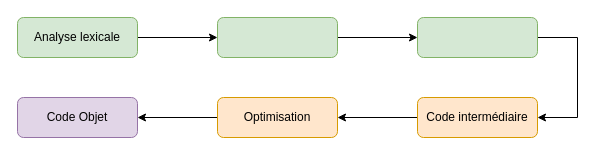
Image size: 603x155. Some labels were removed from this diagram. The shapes that lost their labels are listed below. From the top down, each one's centre as x and y in pixels, then its label:
At point 277,37: "Analyse syntaxique".
At point 477,37: "Analyse sémantique".
